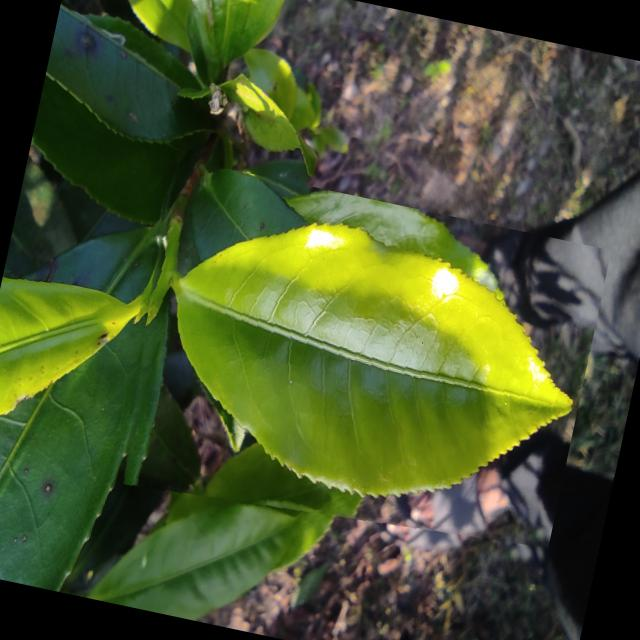Category B 2-4 days: (101, 156, 611, 573)
